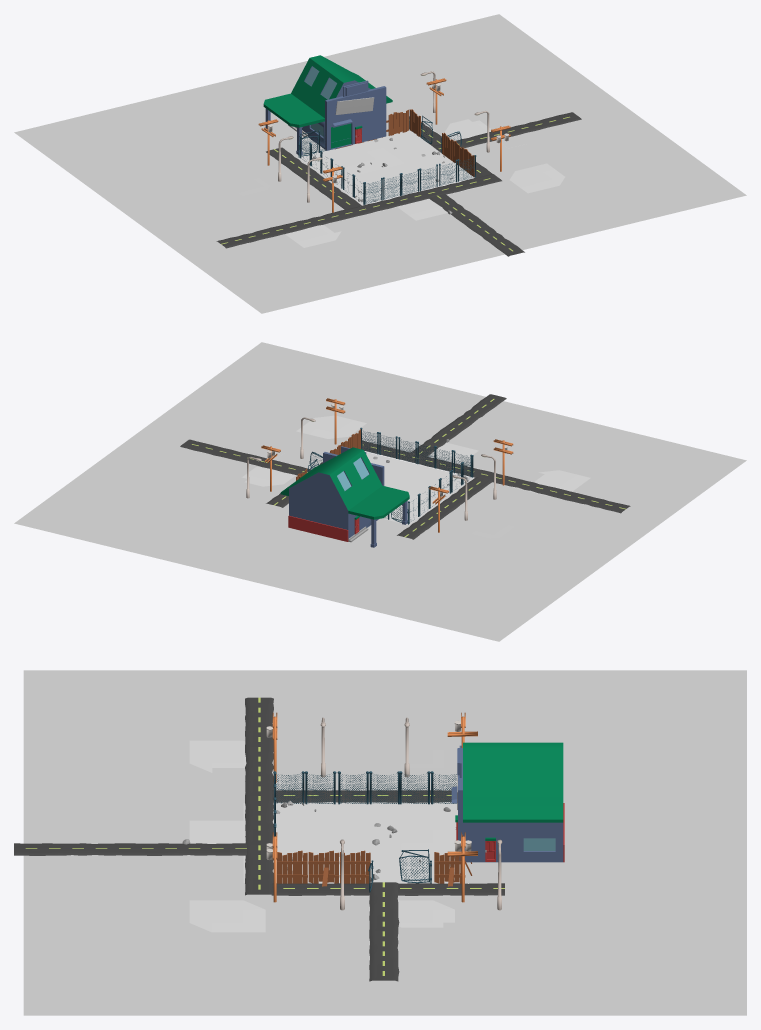
The model's file is StaticAssets01.fbx.
3 renders of one model, top to bottom at view 1: azimuth 30°, elevation 25°; view 2: azimuth 150°, elevation 25°; view 3: azimuth 270°, elevation 25°, orthographic. The views are drawn at different scales.
Parts seen in each view (by area): view 1: Ground_Floor.001, BG_Garage, Ground_Floor, Ground_Floor.003, Ground_Floor.005, Ground_Floor.002, Ground_Floor.004, BG_Road.011, BG_Road.008, BG_Road.010, BG_Road.006, BG_Road.000 (+4 smaller); view 2: Ground_Floor.001, BG_Garage, Ground_Floor, Ground_Floor.003, Ground_Floor.004, Ground_Floor.005, BG_Road.011, BG_Road.008, BG_Road.000, Ground_Floor.002, BG_Road.009, BG_Road.001 (+4 smaller); view 3: Ground_Floor.001, BG_Garage, Ground_Floor, Ground_Floor.003, Ground_Floor.002, Ground_Floor.004, Ground_Floor.005, BG_Road.000, BG_Road.009, BG_Road.008, BG_Road.007, BG_Road.006 (+17 smaller).
Boxes of the visible parts, x1=… form: Ground_Floor.001: x1=14, y1=14, x2=746, y2=313; BG_Garage: x1=263, y1=55, x2=392, y2=155; Ground_Floor: x1=298, y1=130, x2=473, y2=204; Ground_Floor.003: x1=510, y1=163, x2=564, y2=193; Ground_Floor.005: x1=363, y1=180, x2=484, y2=220; Ground_Floor.002: x1=410, y1=119, x2=492, y2=177; Ground_Floor.004: x1=286, y1=225, x2=341, y2=247; BG_Road.011: x1=216, y1=224, x2=294, y2=248; BG_Road.008: x1=505, y1=112, x2=581, y2=136; BG_Road.010: x1=286, y1=207, x2=363, y2=231; BG_Road.006: x1=355, y1=190, x2=431, y2=214; BG_Road.000: x1=468, y1=223, x2=524, y2=256; Ground_Floor.001: x1=14, y1=342, x2=746, y2=641; BG_Garage: x1=280, y1=446, x2=409, y2=547; Ground_Floor: x1=365, y1=451, x2=473, y2=525; Ground_Floor.003: x1=296, y1=415, x2=366, y2=438; Ground_Floor.004: x1=534, y1=470, x2=590, y2=491; Ground_Floor.005: x1=364, y1=443, x2=484, y2=477; BG_Road.011: x1=552, y1=489, x2=630, y2=513; BG_Road.008: x1=180, y1=439, x2=258, y2=463; BG_Road.000: x1=450, y1=394, x2=506, y2=427; Ground_Floor.002: x1=242, y1=461, x2=322, y2=493; BG_Road.009: x1=411, y1=423, x2=466, y2=456; BG_Road.001: x1=397, y1=506, x2=452, y2=539; Ground_Floor.001: x1=23, y1=670, x2=746, y2=1015; BG_Garage: x1=451, y1=742, x2=564, y2=862; Ground_Floor: x1=276, y1=803, x2=460, y2=882; Ground_Floor.003: x1=189, y1=900, x2=265, y2=932; Ground_Floor.002: x1=277, y1=883, x2=461, y2=927; Ground_Floor.004: x1=189, y1=740, x2=246, y2=803; Ground_Floor.005: x1=189, y1=803, x2=273, y2=882; BG_Road.000: x1=14, y1=843, x2=130, y2=855; BG_Road.009: x1=130, y1=843, x2=246, y2=855; BG_Road.008: x1=369, y1=931, x2=399, y2=981; BG_Road.007: x1=369, y1=882, x2=399, y2=932; BG_Road.006: x1=245, y1=796, x2=273, y2=845.
Bounding box in the file's own units: 2600 × 329 × 2330.
